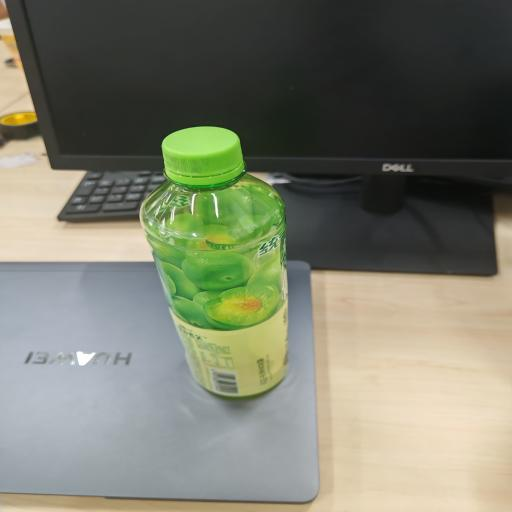laptop: (2, 261, 323, 502)
